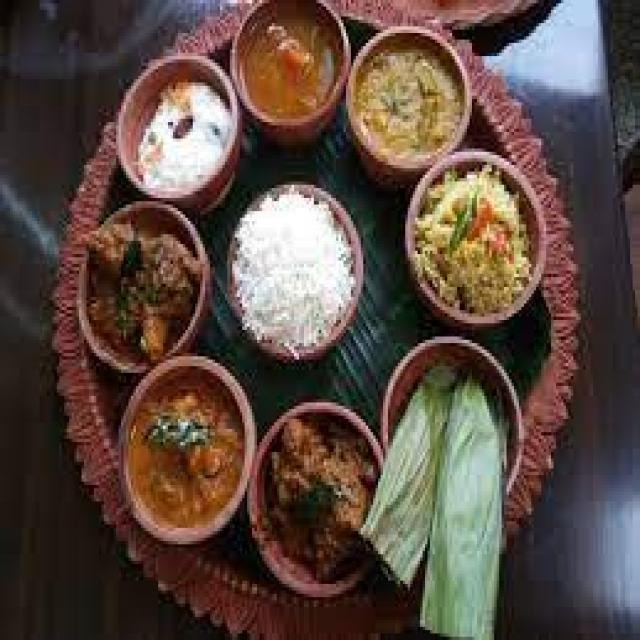rice: (218, 188, 368, 362), (403, 161, 546, 324)
sambar-rasam: (234, 2, 345, 131)
sweet: (404, 162, 546, 325), (118, 55, 249, 212), (348, 41, 470, 172), (233, 3, 350, 129)
veg-fry: (253, 399, 381, 568), (124, 371, 251, 536)
